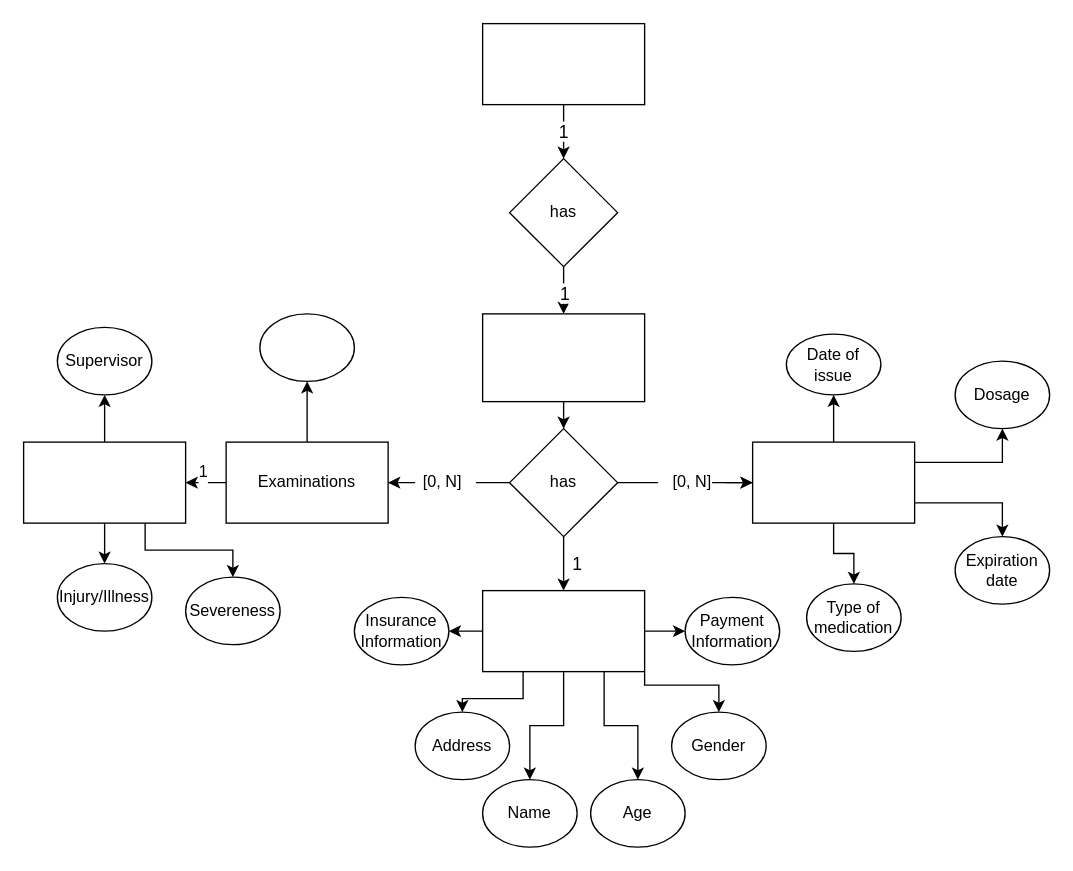
The diagram is 1073 pixels wide and 871 high, and some of its shapes have lost their labels. Here are the shapes that lost their labels. From the top down, the box of each, then its label:
(481, 22, 645, 105): User
(259, 313, 354, 381): Date
(481, 313, 645, 402): Account
(22, 441, 186, 523): Report
(751, 441, 915, 523): Prescriptions
(481, 589, 645, 672): Personal Information
